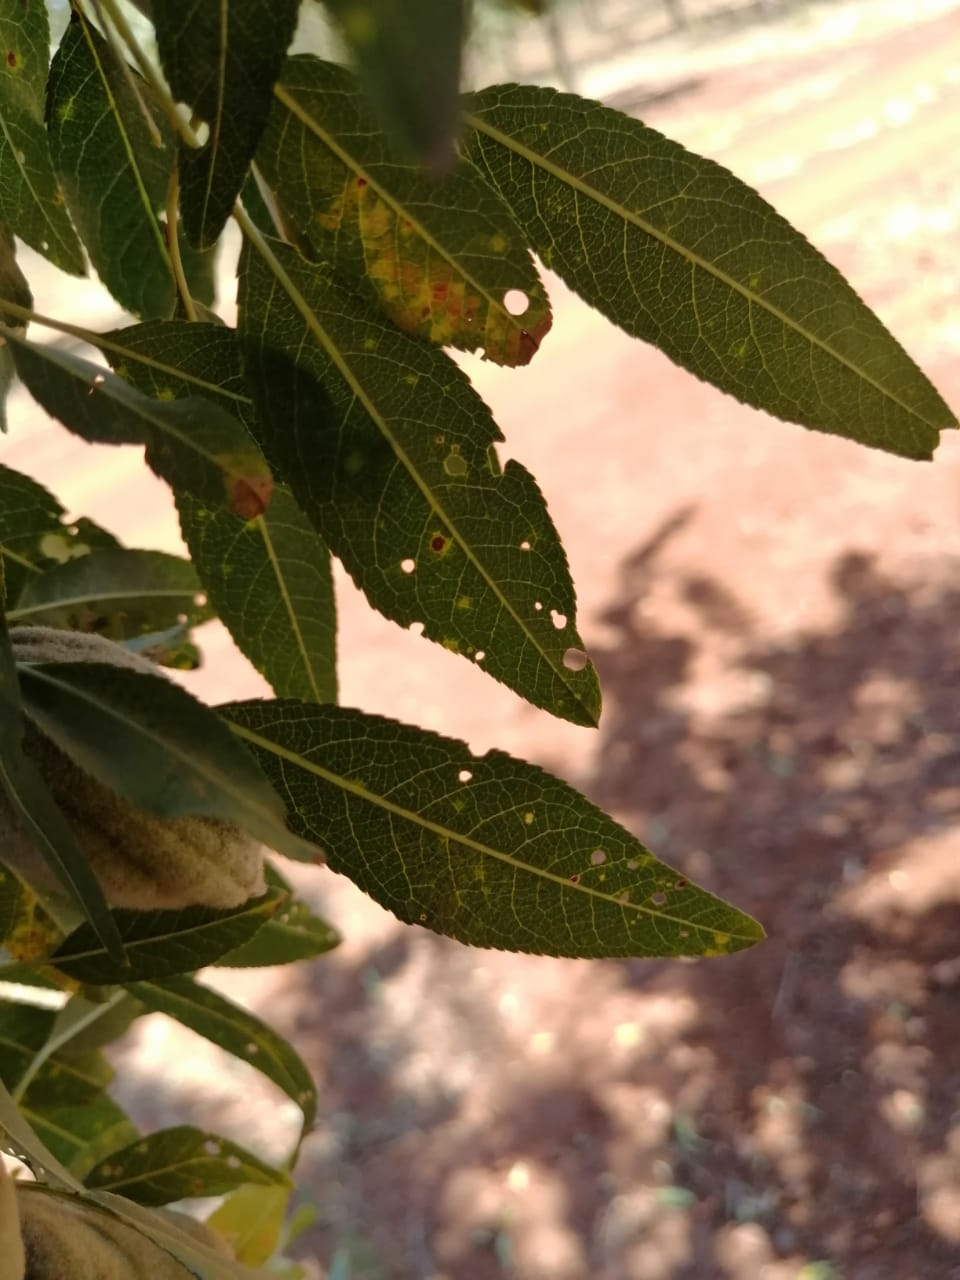coryneum: (236, 227, 607, 730), (211, 695, 771, 964), (240, 53, 553, 369), (7, 330, 271, 526)
